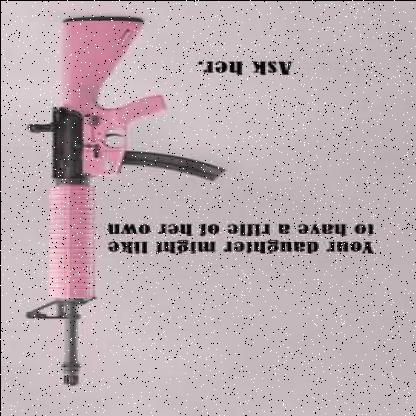rifle: (19, 1, 247, 398)
